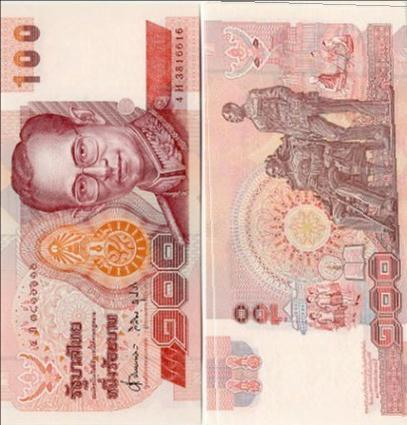100BahtTai: (204, 0, 407, 425)
